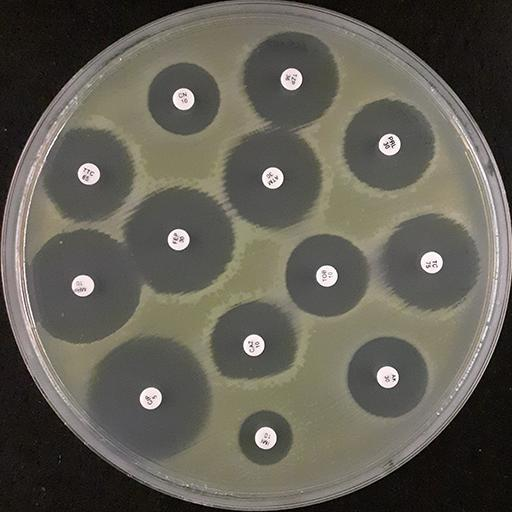disc: (279, 67, 303, 91), (254, 426, 277, 450), (71, 274, 95, 297), (172, 88, 195, 111), (378, 133, 401, 156), (261, 166, 284, 189), (167, 228, 190, 251), (315, 265, 338, 288), (420, 251, 443, 274), (376, 366, 399, 389), (242, 334, 265, 357), (139, 387, 162, 410), (77, 162, 100, 185)
